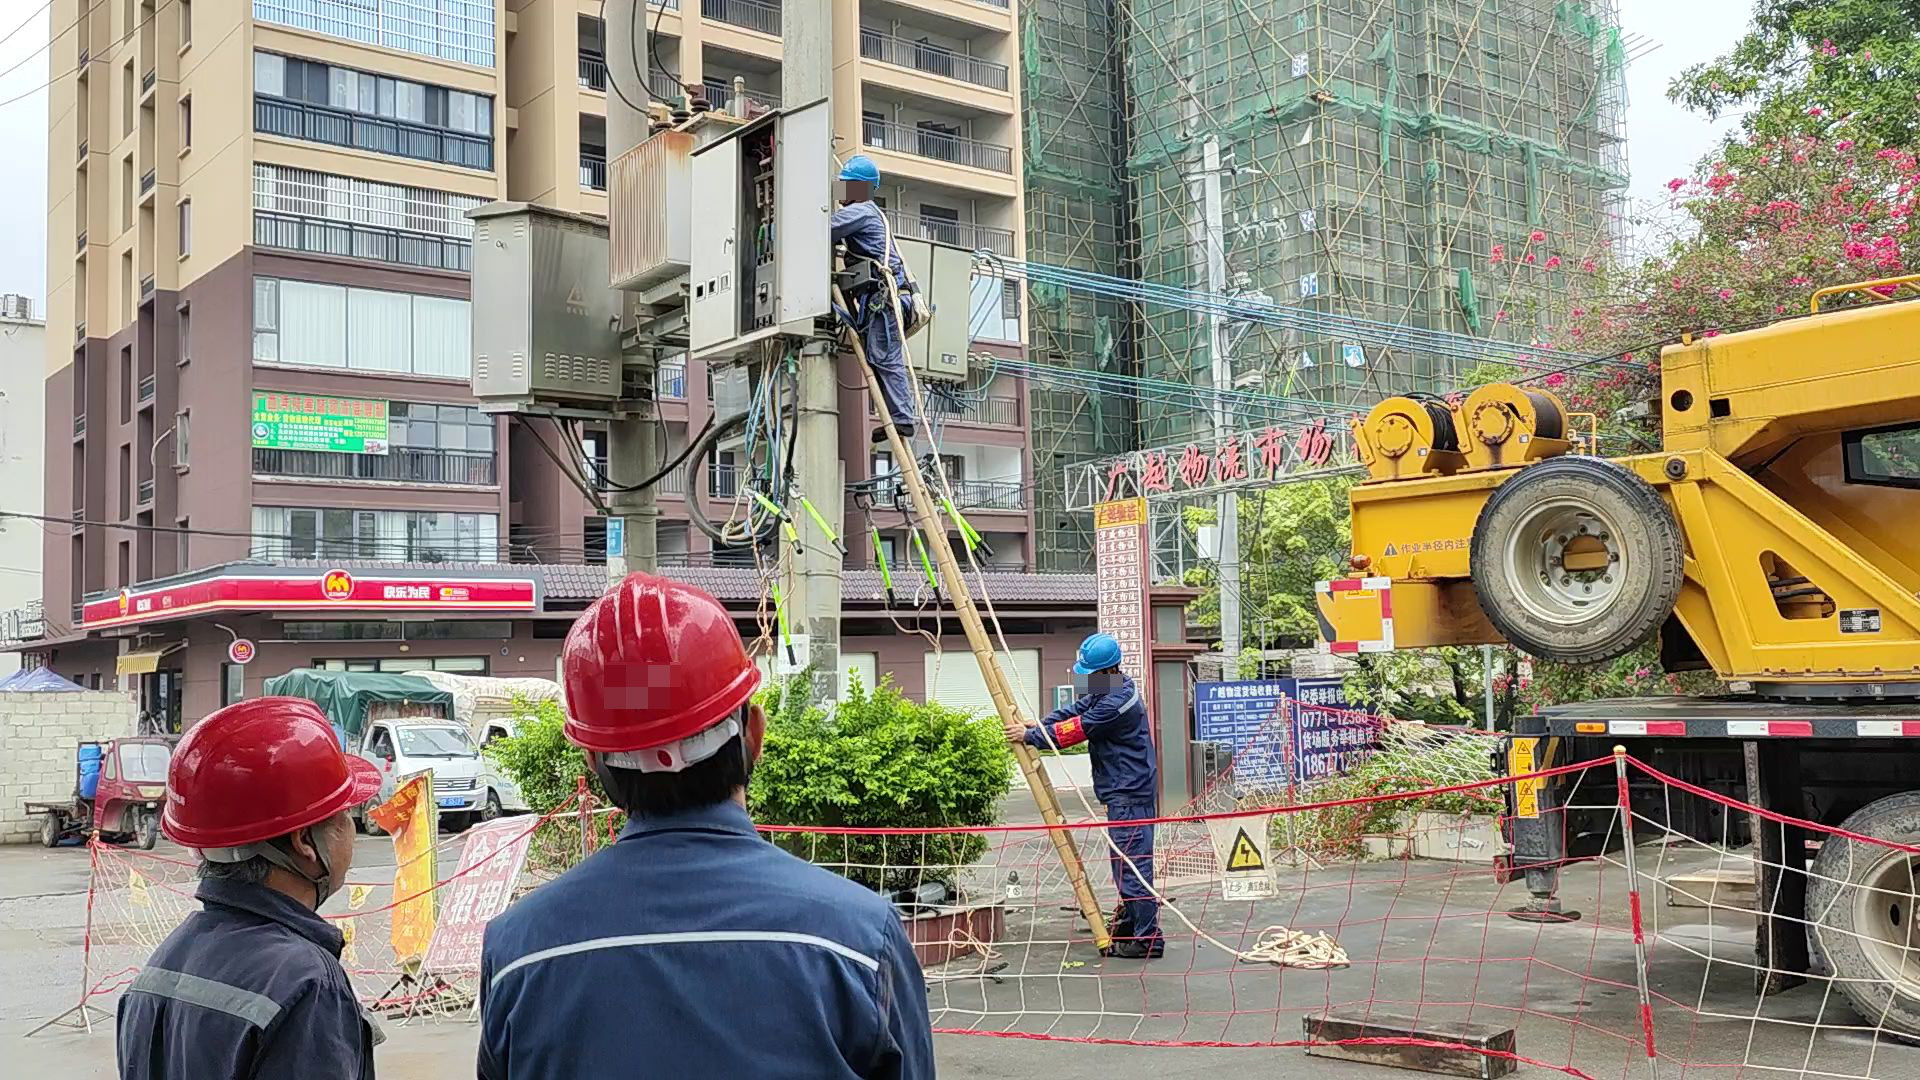badge: (1056, 715, 1091, 748)
downsuit: (857, 306, 922, 425), (1105, 811, 1162, 930)
halt: (165, 700, 387, 897), (565, 578, 767, 782), (1074, 631, 1127, 684), (837, 156, 881, 201)
hand: (1003, 720, 1028, 743)
inear: (262, 815, 343, 901), (850, 181, 872, 202), (1103, 663, 1120, 684)
person: (475, 573, 943, 1080), (110, 694, 415, 1080), (1019, 628, 1166, 936), (823, 153, 932, 436)
support: (997, 632, 1178, 968)
upsuit: (478, 812, 948, 1080), (111, 876, 387, 1080), (1036, 678, 1161, 798), (830, 202, 913, 302)
